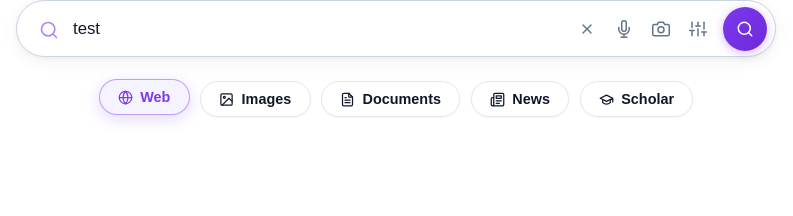
Test: SearchBar Component › toggles filters panel for algorithm and match mode
Later steps or results of the test are not shown.
Click the button named "filters". click: (698,29)
box: [679,12,717,46]
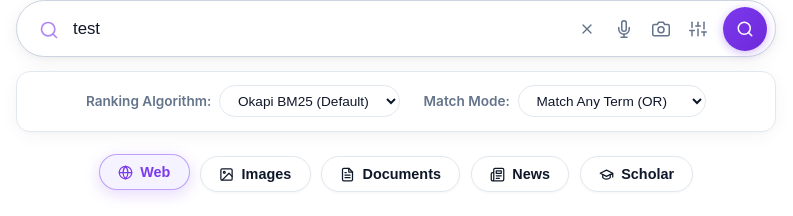
expect the dropdown labelled "Ranking Algorithm:" is shown: met, box [219,85,400,117]
